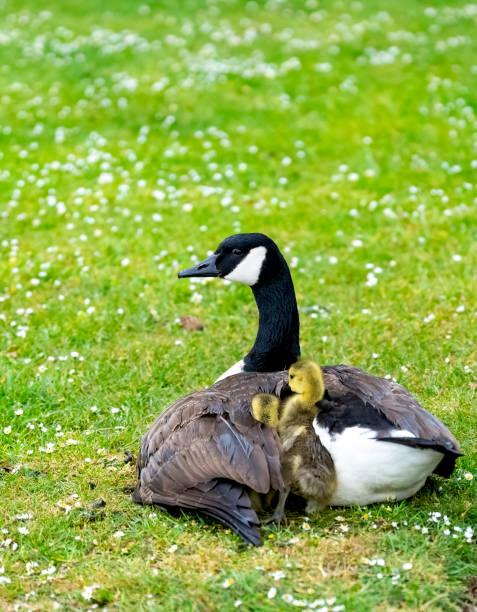Canadian-Goose: (119, 227, 462, 532)
